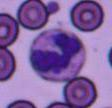N: (29, 29, 85, 82)
